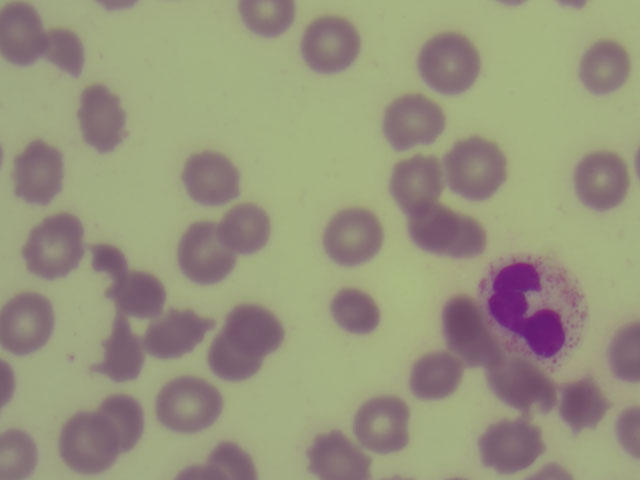RBC: (161, 372, 225, 435), (490, 358, 556, 415), (85, 391, 149, 449), (62, 410, 121, 471), (79, 85, 131, 154), (356, 393, 410, 457), (426, 34, 483, 94), (377, 94, 441, 147), (31, 214, 83, 279), (575, 151, 631, 211), (179, 221, 232, 282), (452, 137, 505, 198), (486, 418, 547, 470), (330, 208, 382, 267), (223, 199, 279, 253), (307, 20, 360, 75), (584, 39, 635, 96), (19, 143, 64, 204), (7, 292, 52, 352), (312, 435, 370, 480), (1, 5, 46, 62), (232, 3, 296, 43), (328, 288, 382, 335), (390, 160, 438, 211), (232, 306, 287, 350), (409, 353, 460, 399), (214, 334, 261, 383), (106, 318, 142, 381), (190, 157, 239, 202), (441, 296, 485, 346), (146, 315, 203, 353), (209, 437, 259, 480), (440, 215, 488, 259), (607, 321, 640, 385), (5, 429, 43, 480), (567, 380, 604, 428), (411, 209, 455, 249), (48, 33, 88, 77), (123, 273, 162, 316), (98, 239, 127, 292), (616, 403, 640, 462), (173, 463, 220, 480), (530, 466, 570, 480), (3, 360, 16, 402), (93, 1, 136, 12)
WBC: (481, 254, 587, 371)
